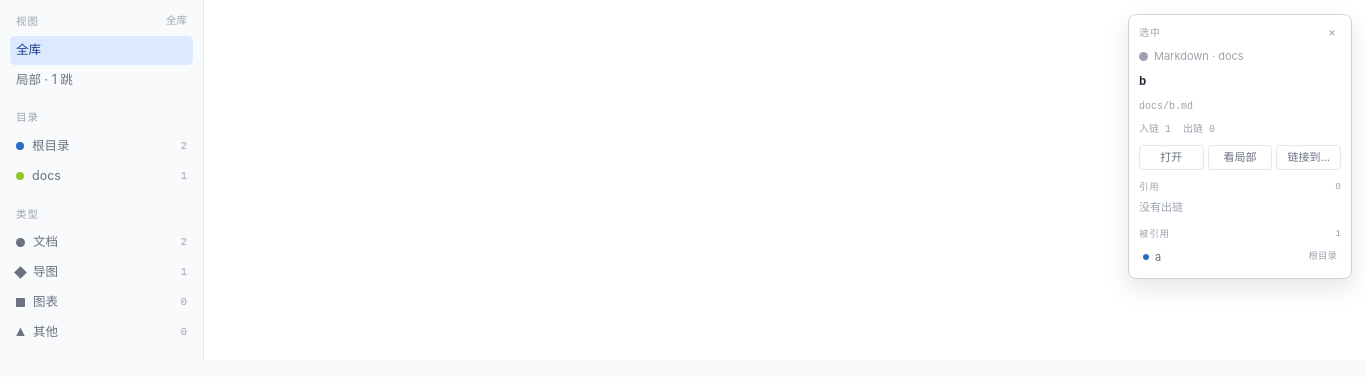
Scenario: TC-VIEW-010 选中节点卡片 › 列出引用与被引用，点一条就选中那个邻居
expect the element with class "graph-card" shows "被引用": met, box [1139,228,1170,239]
expect the text with class "graph-card__link-name" reads "a": met, box [1155,250,1161,264]
Click the button with class "graph-card__link" at (1240, 257), box [1139,246,1341,268]
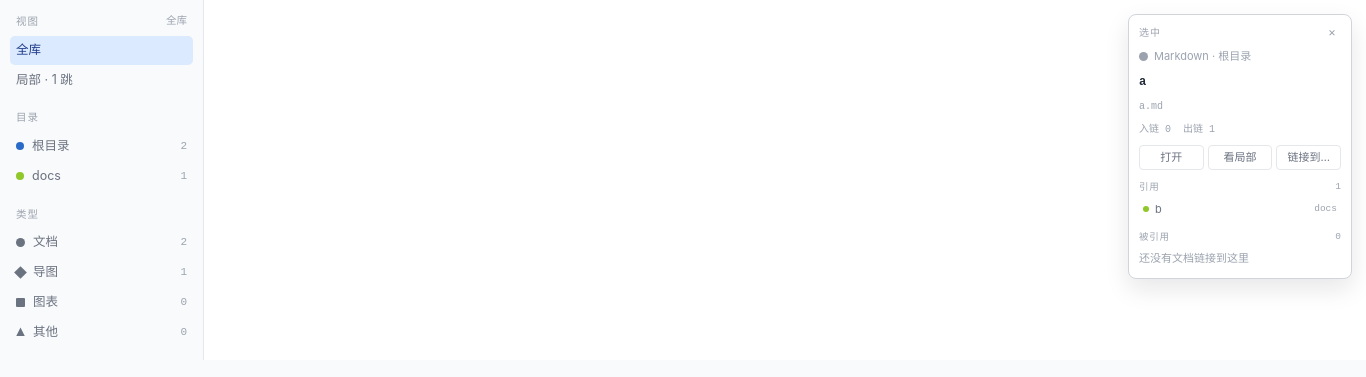
expect the text "a.md" is shown: met, box [1139,100,1163,112]
